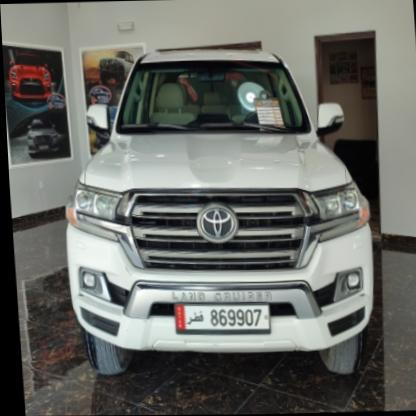np: (168, 299, 269, 338)
